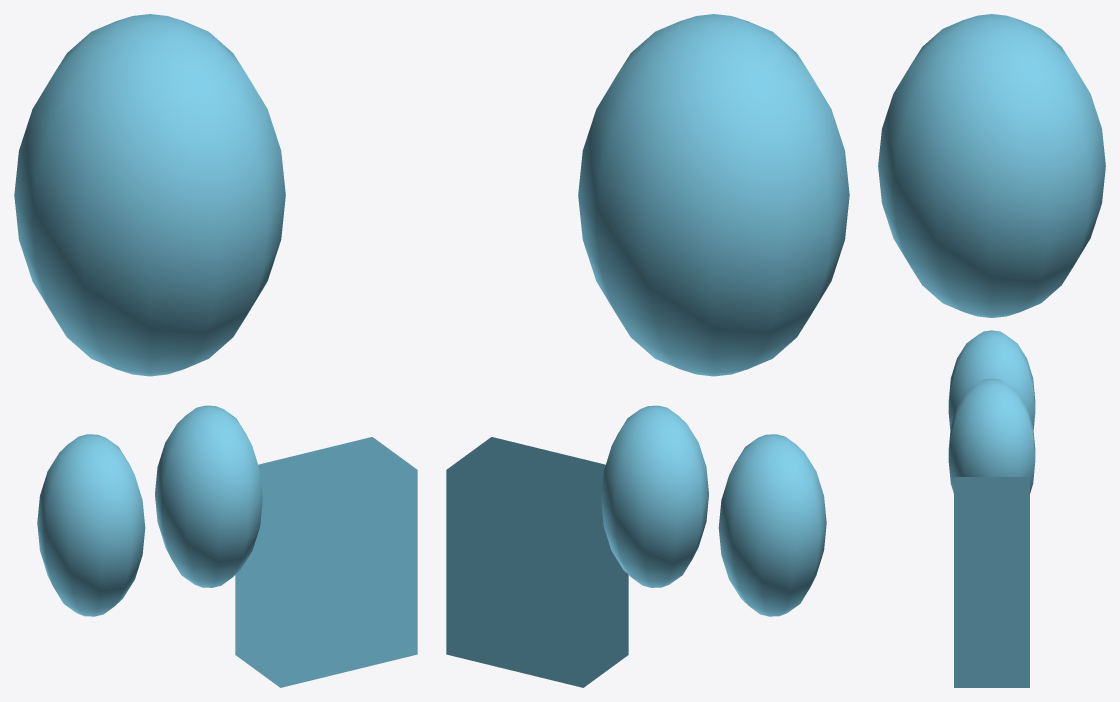
The model's file is person_with_suitcase.glb.
The picture shows the model from 3 angles, left to right: view 1: azimuth 30°, elevation 25°; view 2: azimuth 150°, elevation 25°; view 3: azimuth 270°, elevation 25°; orthographic projection. The views are drawn at different scales.
Visible parts, largest first — view 1: PersonWithSuitcase; view 2: PersonWithSuitcase; view 3: PersonWithSuitcase.
Part boxes in pixels (x1,y1,x2,y2): PersonWithSuitcase: (14,14,417,687); PersonWithSuitcase: (446,14,849,687); PersonWithSuitcase: (878,14,1105,687).
Size of the model in its own units: 0.925 by 1.64 by 0.6.
